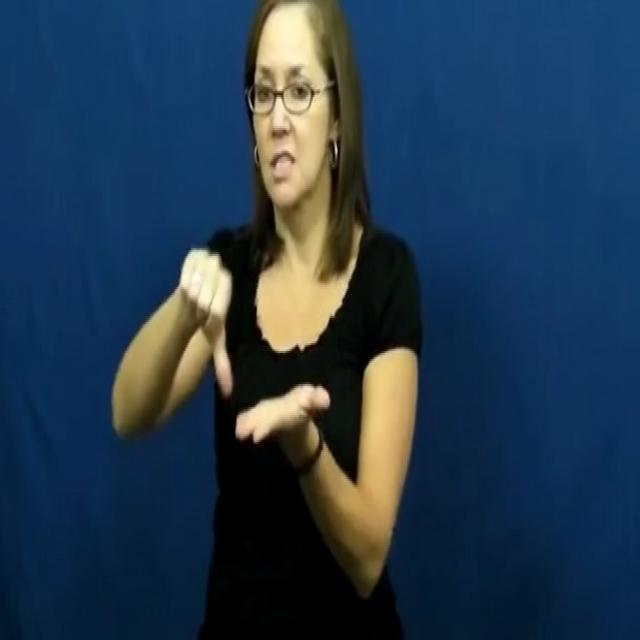sauce: (159, 232, 338, 462)
